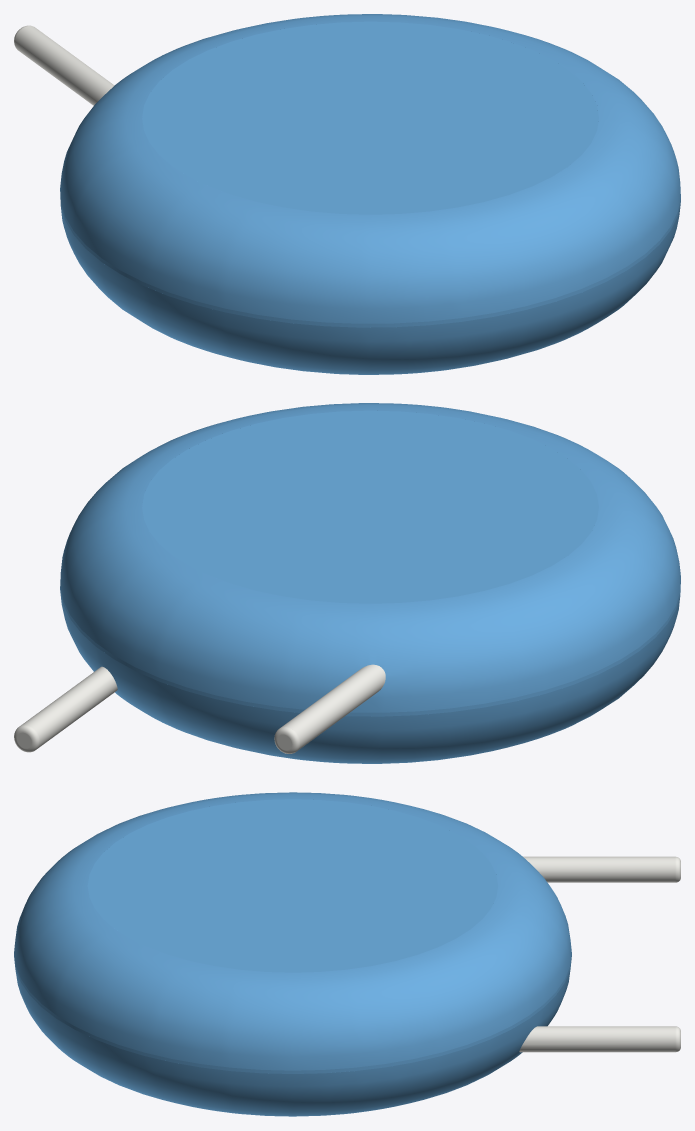
File: RV_Disc_D15.5mm_W4.2mm_P7.5mm.glb
The picture shows the model from 3 angles, top to bottom: view 1: azimuth 30°, elevation 25°; view 2: azimuth 150°, elevation 25°; view 3: azimuth 270°, elevation 25°; orthographic projection. The views are drawn at different scales.
Visible parts, largest first — view 1: Shape_IndexedFaceSet.001, Shape_IndexedFaceSet.003, Shape_IndexedFaceSet.002, Shape_IndexedFaceSet.004, Shape_IndexedFaceSet; view 2: Shape_IndexedFaceSet.001, Shape_IndexedFaceSet.003, Shape_IndexedFaceSet.002, Shape_IndexedFaceSet.004, Shape_IndexedFaceSet.006, Shape_IndexedFaceSet; view 3: Shape_IndexedFaceSet.001, Shape_IndexedFaceSet.003, Shape_IndexedFaceSet.002, Shape_IndexedFaceSet.006, Shape_IndexedFaceSet.004, Shape_IndexedFaceSet.
Part boxes in pixels (left/top/right/bottom): Shape_IndexedFaceSet.001: left=60, top=14, right=680, bottom=323; Shape_IndexedFaceSet.003: left=142, top=21, right=598, bottom=214; Shape_IndexedFaceSet.002: left=61, top=202, right=680, bottom=374; Shape_IndexedFaceSet.004: left=14, top=26, right=114, bottom=105; Shape_IndexedFaceSet: left=60, top=188, right=680, bottom=327; Shape_IndexedFaceSet.001: left=60, top=403, right=680, bottom=712; Shape_IndexedFaceSet.003: left=142, top=410, right=598, bottom=603; Shape_IndexedFaceSet.002: left=60, top=592, right=680, bottom=763; Shape_IndexedFaceSet.004: left=281, top=664, right=385, bottom=750; Shape_IndexedFaceSet.006: left=19, top=666, right=117, bottom=748; Shape_IndexedFaceSet: left=60, top=581, right=680, bottom=716; Shape_IndexedFaceSet.001: left=14, top=792, right=571, bottom=1070; Shape_IndexedFaceSet.003: left=87, top=799, right=497, bottom=972; Shape_IndexedFaceSet.002: left=14, top=959, right=571, bottom=1116; Shape_IndexedFaceSet.006: left=519, top=1026, right=675, bottom=1052; Shape_IndexedFaceSet.004: left=523, top=856, right=675, bottom=882; Shape_IndexedFaceSet: left=14, top=953, right=571, bottom=1073.
Bounding box in the file's own units: 6.1 × 1.65 × 7.29.
